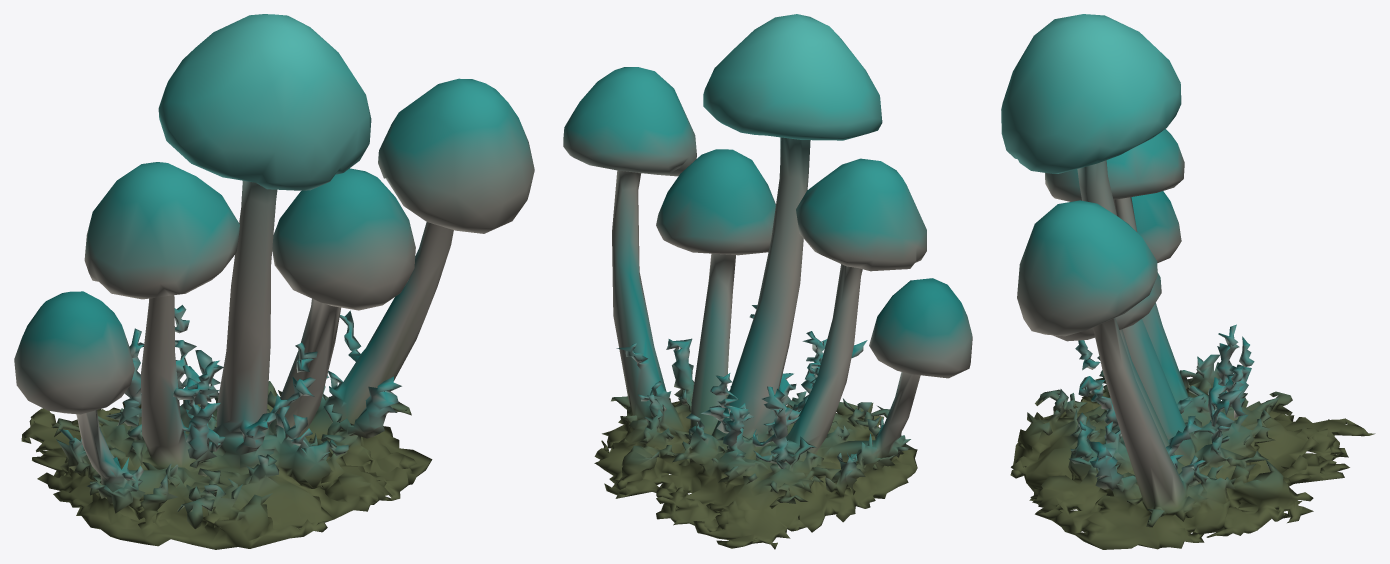
File: mushroom-cluster.glb
3 views of the same model, side by side, from view 1: azimuth 30°, elevation 25°; view 2: azimuth 150°, elevation 25°; view 3: azimuth 270°, elevation 25° (orthographic). The views are drawn at different scales.
Parts seen in each view (by area): view 1: geometry_0; view 2: geometry_0; view 3: geometry_0.
Part boxes in pixels (left/top/right/bottom): geometry_0: left=14, top=14, right=534, bottom=549; geometry_0: left=563, top=14, right=972, bottom=549; geometry_0: left=1001, top=14, right=1375, bottom=549.
Size of the model in its own units: 2.04 by 2 by 1.48.
